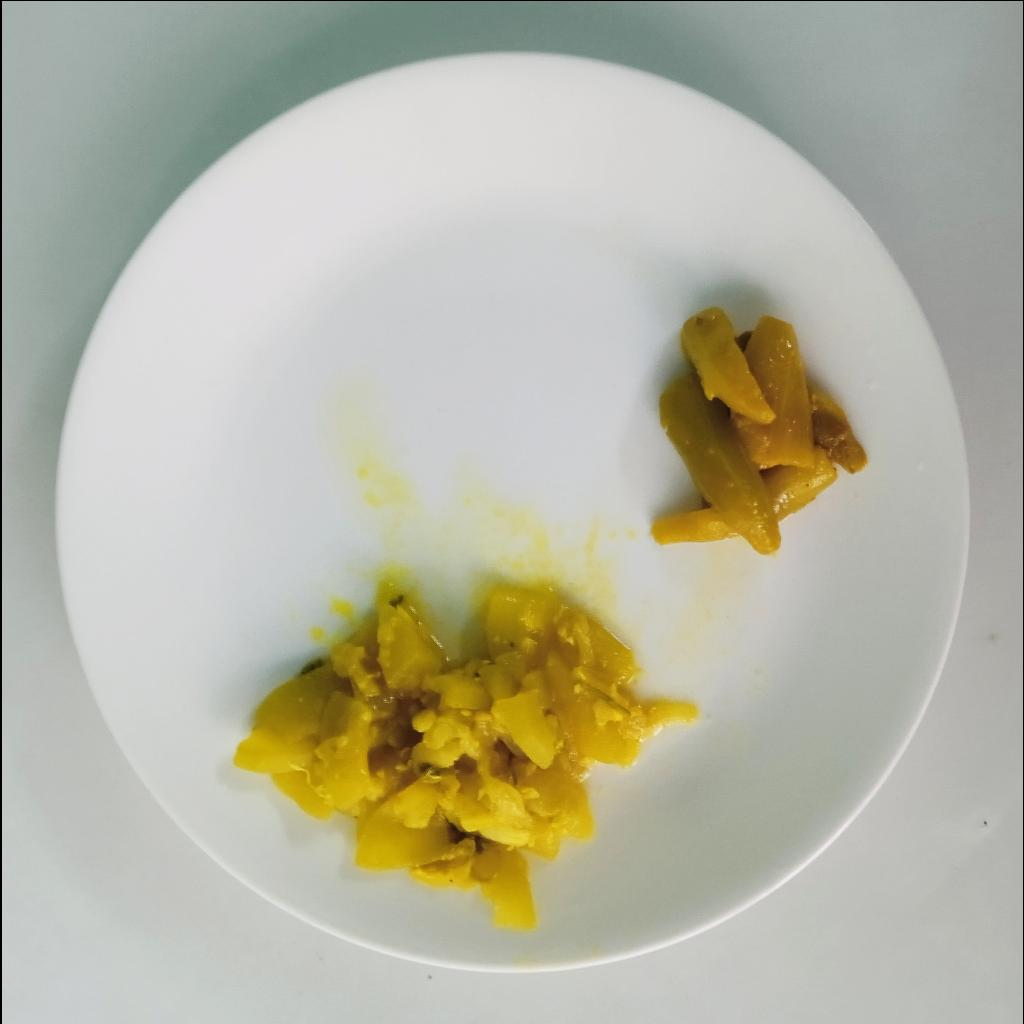kumra-vaji: (231, 590, 701, 930)
potol: (651, 306, 871, 555)
